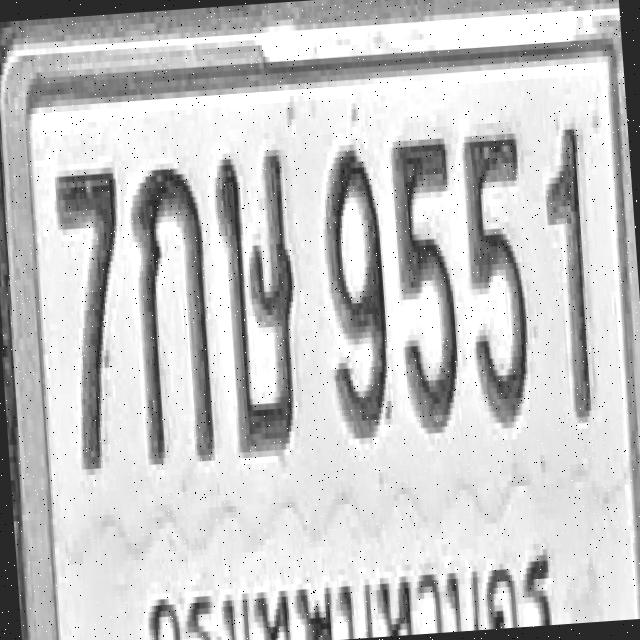1: (540, 120, 598, 420)
10GorGai: (127, 161, 217, 465)
48SorRueSi: (212, 143, 306, 458)
5: (389, 132, 466, 434), (459, 124, 536, 426)
7: (52, 164, 134, 473)
9: (319, 143, 393, 440)
